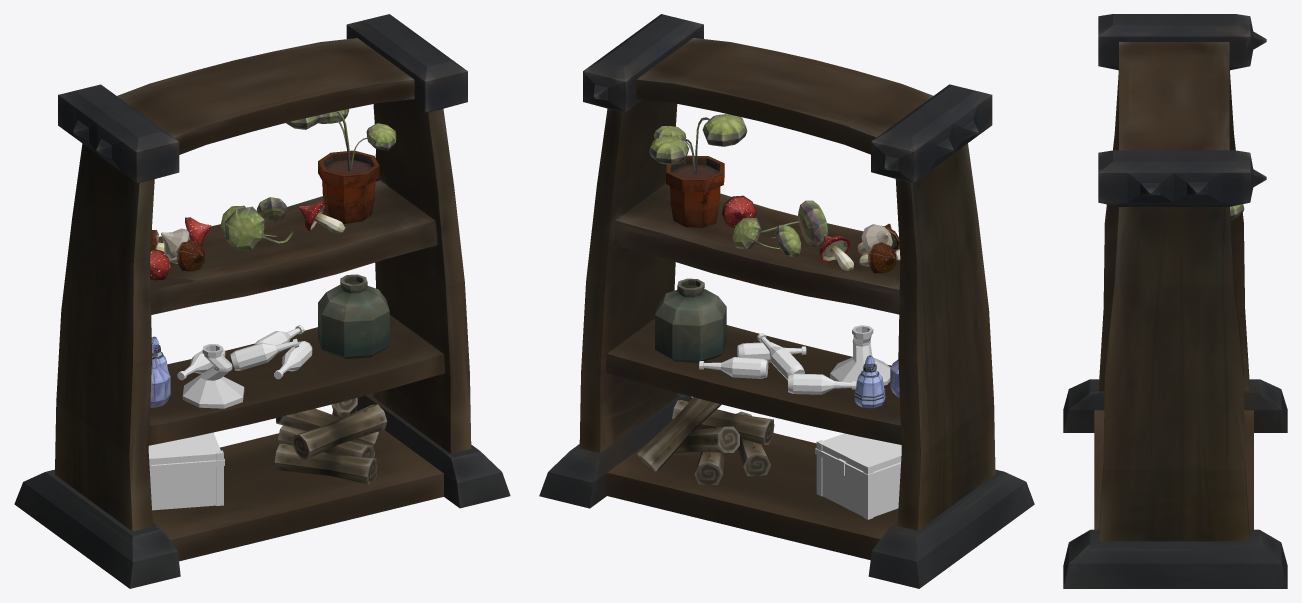
File: SM_szafa_2.fbx
3 views of the same model, side by side, from view 1: azimuth 30°, elevation 25°; view 2: azimuth 150°, elevation 25°; view 3: azimuth 270°, elevation 25° (orthographic). The views are drawn at different scales.
Parts seen in each view (by area): view 1: polka_pierdoly.001, rulony.002, pudełko.001, dzban.001, doniczka.001, fiolka rozowa, rosiczka2.002, Cylinder006.001, Cylinder001, grzyb.003, grzyb.008, Cylinder006 (+1 smaller); view 2: polka_pierdoly.001, rulony.002, pudełko.001, dzban.001, doniczka.001, fiolka rozowa, rosiczka2.001, fiolka zolta.001, rosiczka2.002, Cylinder006.003, Cylinder006.002, rosiczka1.001 (+8 smaller); view 3: polka_pierdoly.001.
Part boxes in pixels (x1,y1,x2,y2): polka_pierdoly.001: [14, 14, 510, 588]; rulony.002: [274, 398, 387, 484]; pudełko.001: [148, 432, 224, 510]; dzban.001: [318, 274, 389, 359]; doniczka.001: [318, 150, 379, 223]; fiolka rozowa: [182, 344, 244, 408]; rosiczka2.002: [224, 206, 292, 250]; Cylinder006.001: [230, 338, 299, 370]; Cylinder001: [150, 341, 170, 407]; grzyb.003: [168, 239, 204, 271]; grzyb.008: [299, 201, 345, 233]; Cylinder006: [274, 341, 312, 379]; polka_pierdoly.001: [539, 14, 1034, 588]; rulony.002: [637, 397, 774, 484]; pudełko.001: [815, 433, 901, 519]; dzban.001: [655, 278, 726, 362]; doniczka.001: [666, 155, 724, 228]; fiolka rozowa: [830, 325, 890, 388]; rosiczka2.001: [695, 114, 747, 174]; fiolka zolta.001: [854, 355, 885, 408]; rosiczka2.002: [760, 200, 827, 246]; Cylinder006.003: [699, 357, 768, 378]; Cylinder006.002: [788, 373, 856, 394]; rosiczka1.001: [649, 136, 695, 174]; polka_pierdoly.001: [1063, 14, 1287, 588].
Size of the model in its own units: 198 by 211 by 104.
